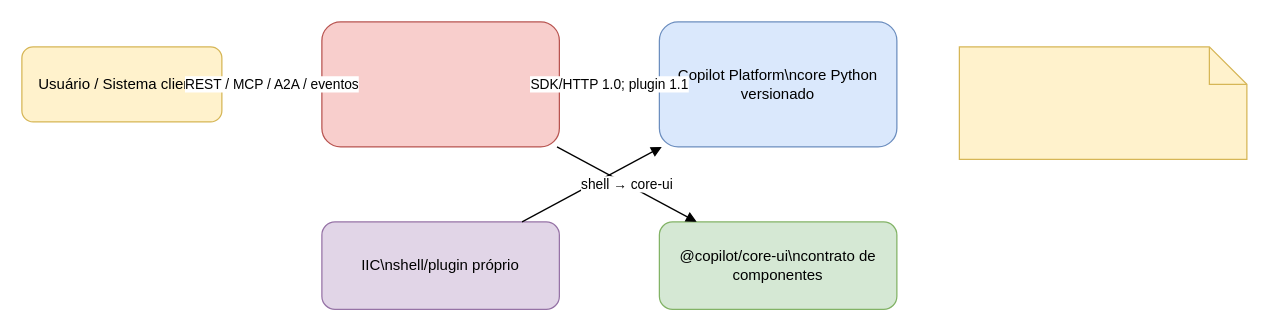
This 1269x331 diagram has some shape labels left out. Each missing label, with the box of its shape:
FISC\nUI + API + plugin dfe\nNF-e 55/4.00: (321, 21, 559, 147)
Trust boundary: IIC e FISC não importam um ao outro; core não importa produtos.: (958, 46, 1247, 159)
